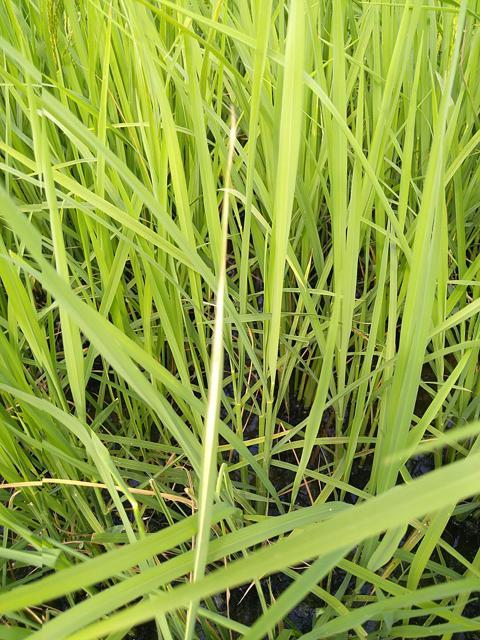Leaf Blight: (192, 117, 236, 584)
